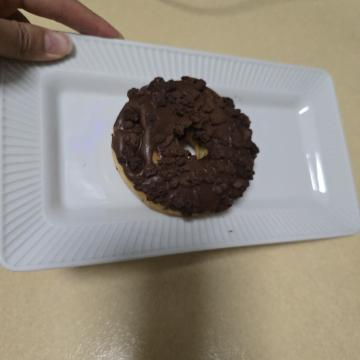doughnut: (69, 94, 230, 257)
